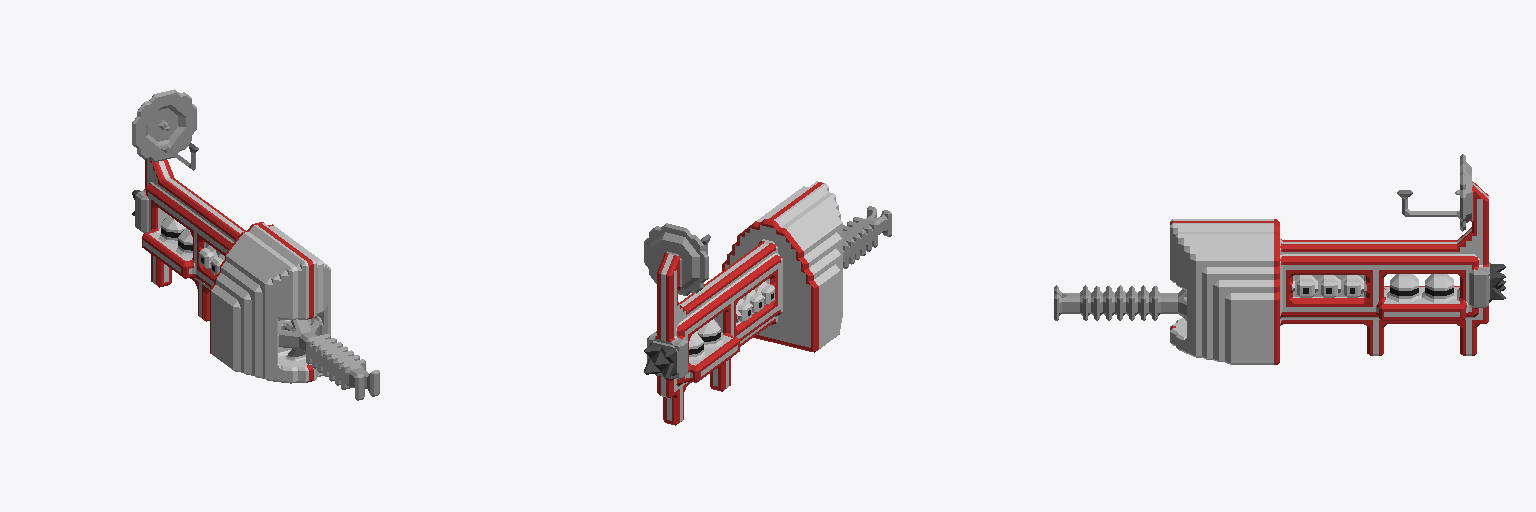
3 renders of one model, left to right at view 1: azimuth 30°, elevation 25°; view 2: azimuth 150°, elevation 25°; view 3: azimuth 270°, elevation 25°, orthographic.
Size of the model in its own units: 19 by 37 by 78.
1 materials, 1 textured.